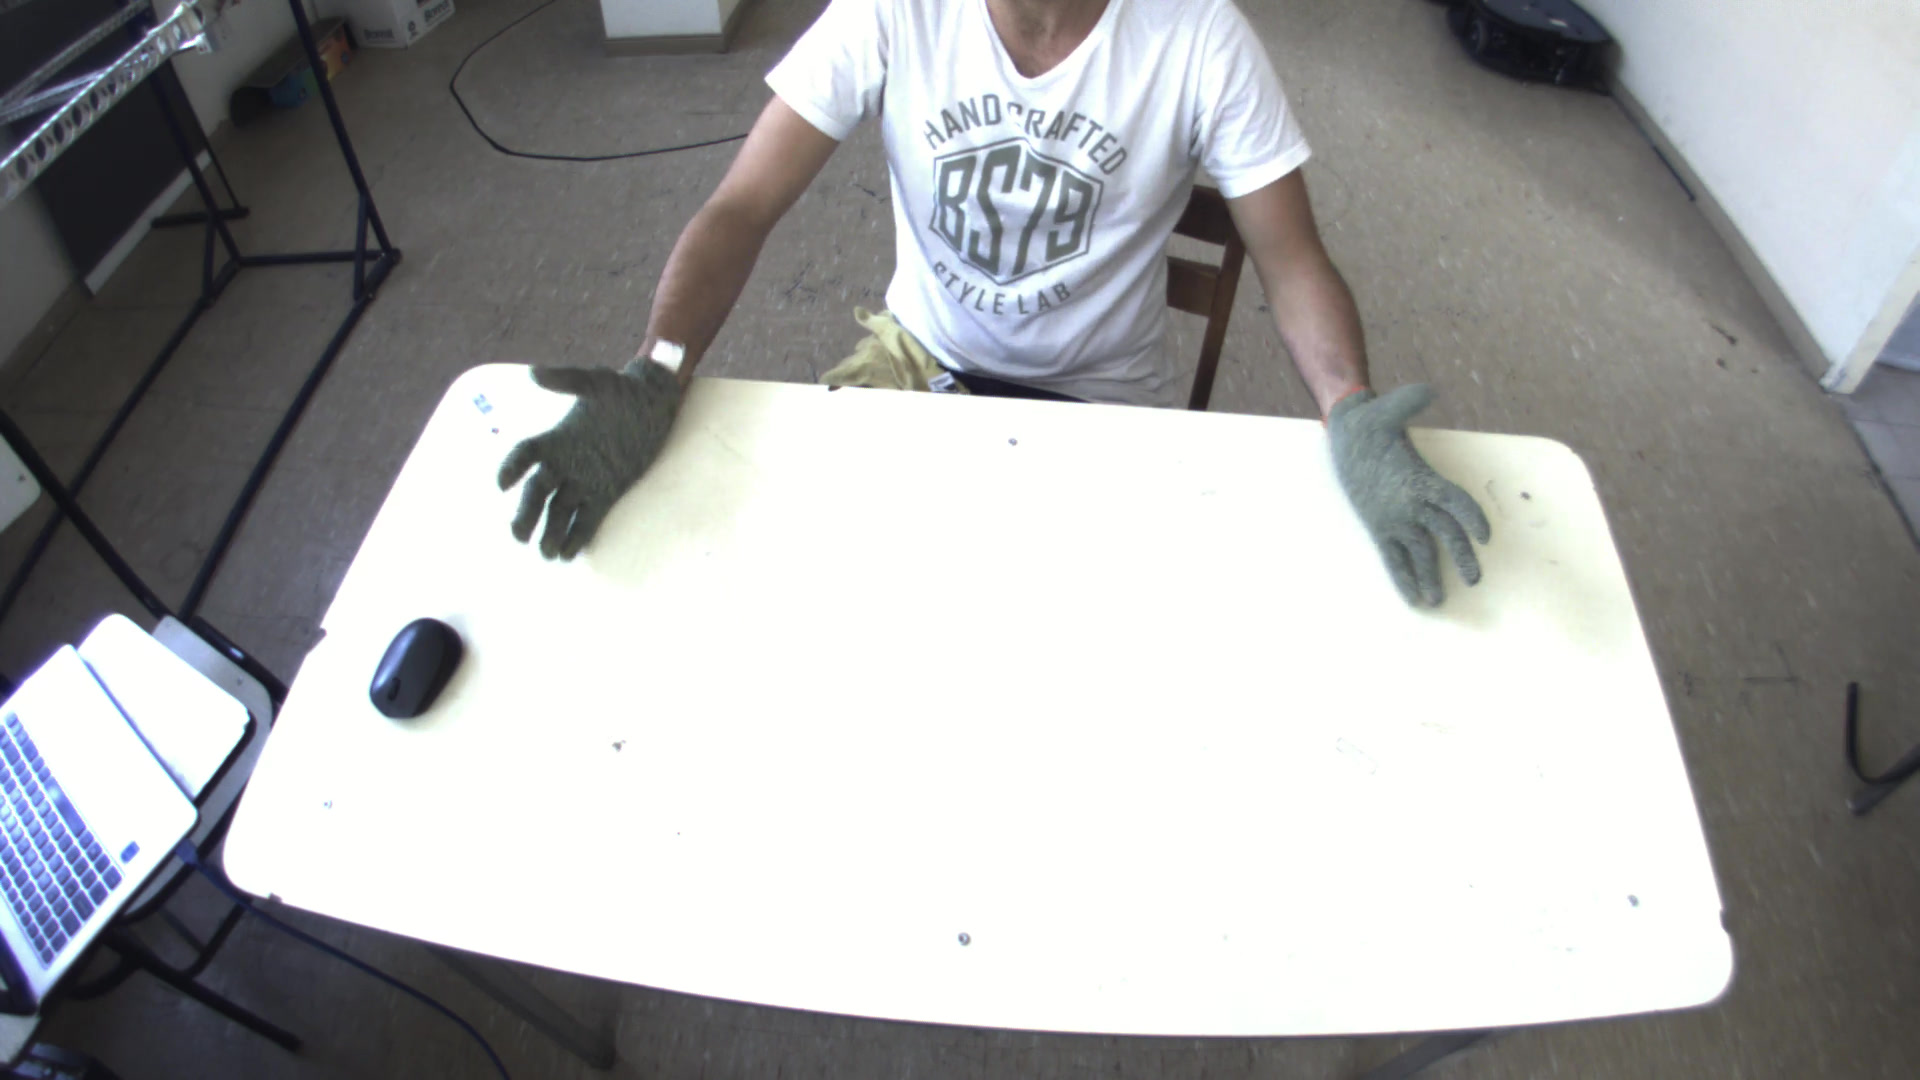hand: (477, 342, 691, 567), (1320, 375, 1510, 618)
